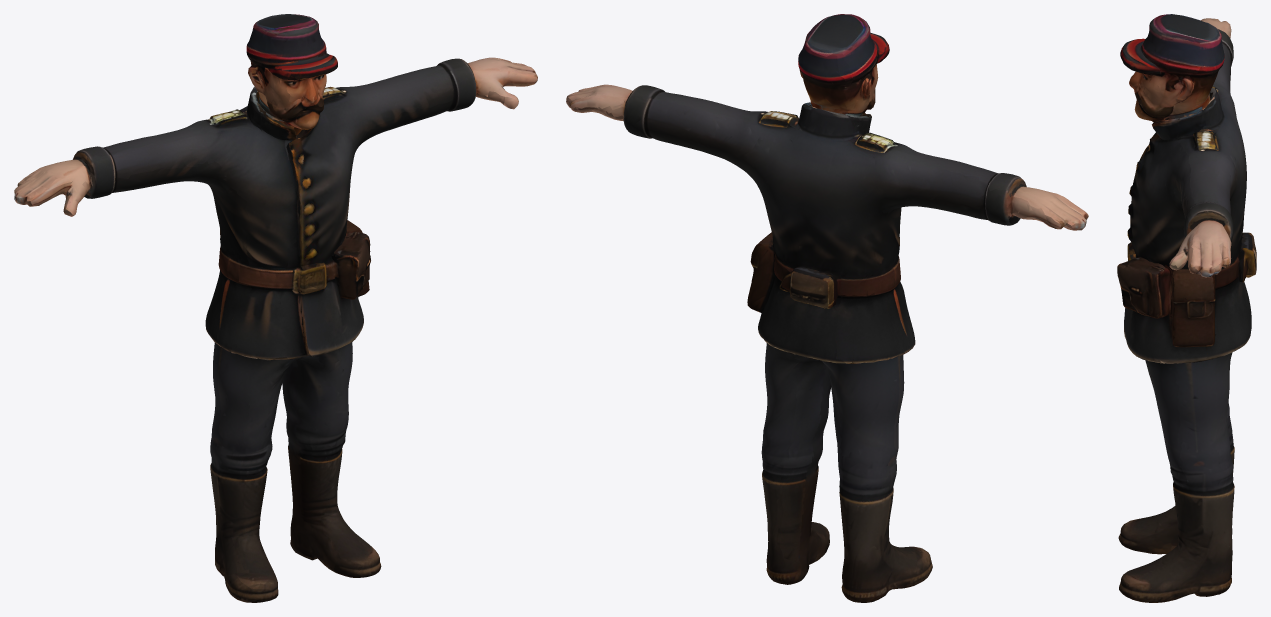
File: lucero.glb
3 renders of one model, left to right at view 1: azimuth 30°, elevation 25°; view 2: azimuth 150°, elevation 25°; view 3: azimuth 270°, elevation 25°, orthographic.
Visible parts, largest first — view 1: lucero; view 2: lucero; view 3: lucero.
Boxes of the visible parts, x1,y1,x2,y2 form: lucero: [14, 14, 537, 602]; lucero: [566, 14, 1088, 602]; lucero: [1117, 14, 1256, 602].
Size of the model in its own units: 1.7 by 1.74 by 0.3987.
1 material, 1 textured.
